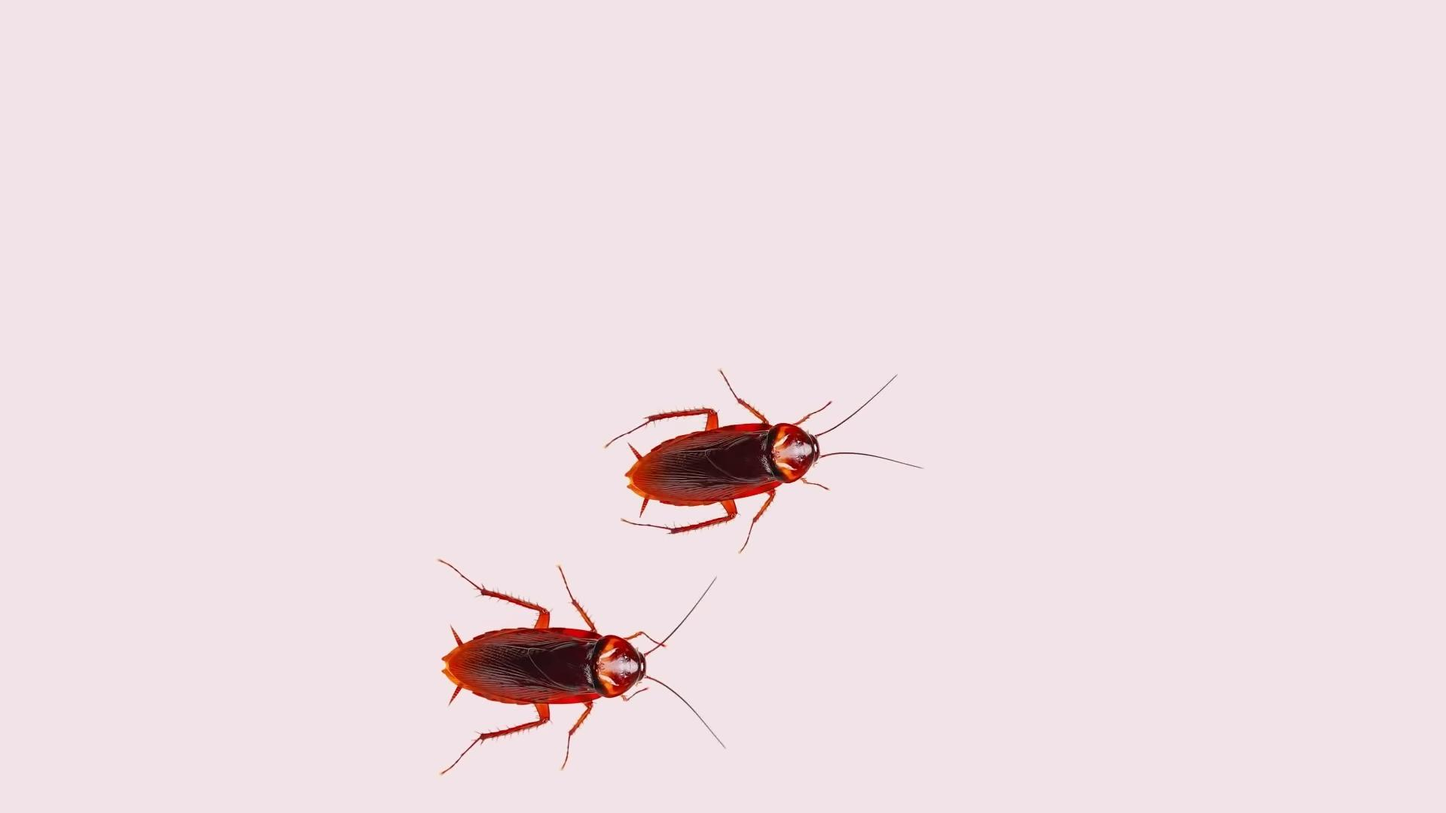cockroach: (403, 543, 747, 790), (578, 325, 923, 544)
